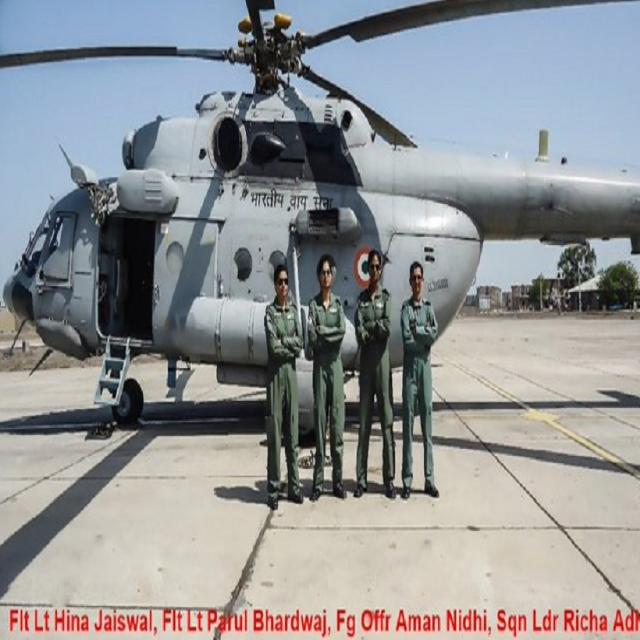helicopter: (5, 20, 640, 445)
